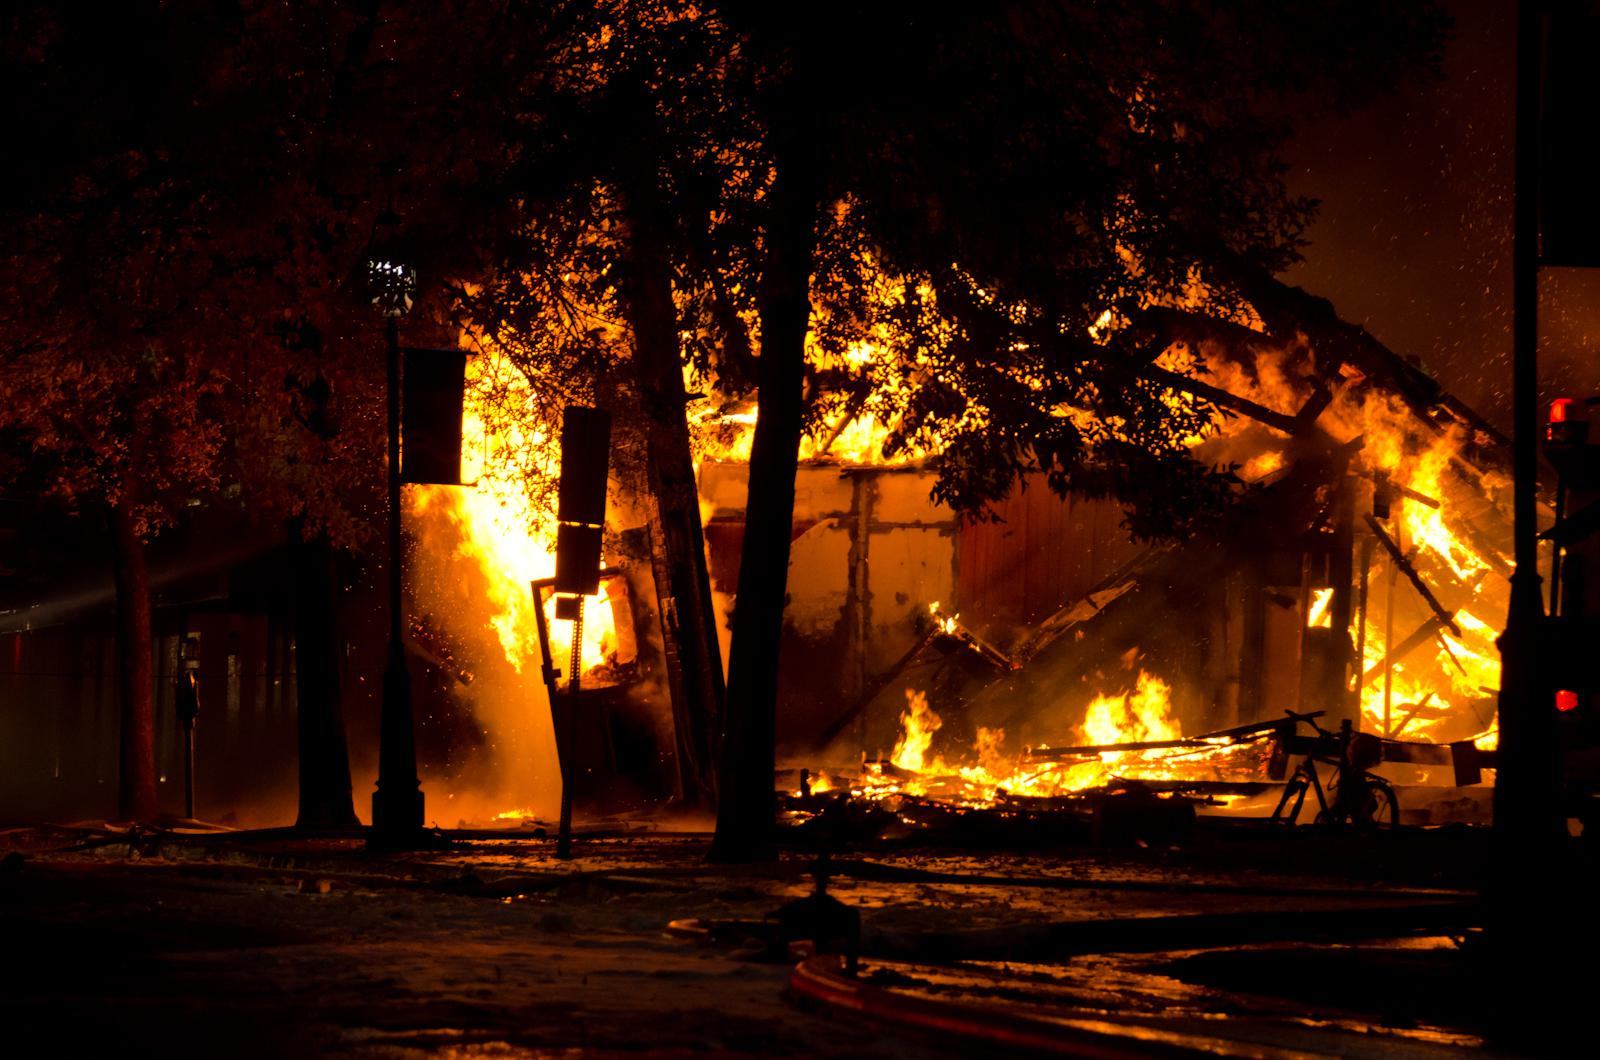fire: (382, 250, 620, 787), (1329, 348, 1512, 764), (834, 668, 1257, 815), (805, 316, 954, 470)
